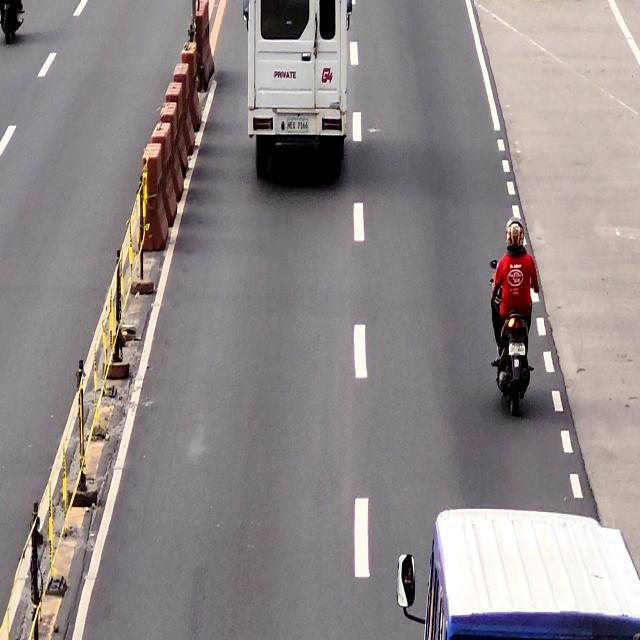Jeep: (247, 0, 350, 170)
License-Plate: (288, 118, 309, 132)
Motorcycle: (492, 218, 534, 416)
